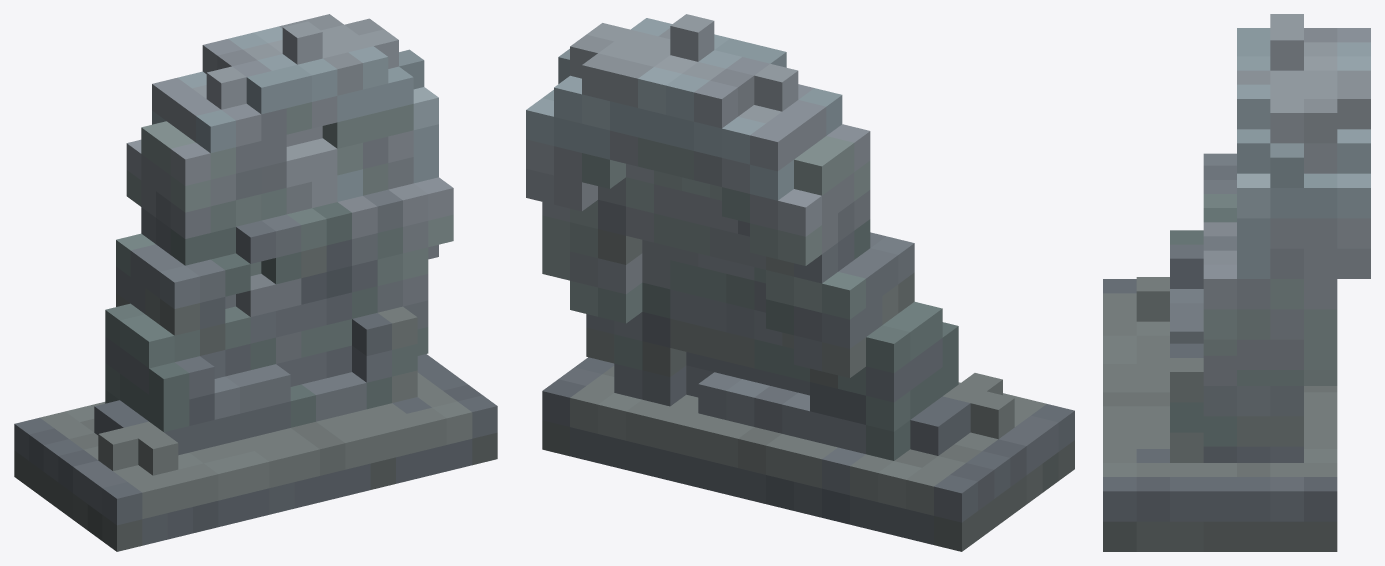
The model's file is grave_A_destroyed.glb.
The picture shows the model from 3 angles, left to right: view 1: azimuth 30°, elevation 25°; view 2: azimuth 150°, elevation 25°; view 3: azimuth 270°, elevation 25°; orthographic projection. The views are drawn at different scales.
Visible parts, largest first — view 1: grave_A_destroyed; view 2: grave_A_destroyed; view 3: grave_A_destroyed.
Boxes of the visible parts, bbox=[...] form: grave_A_destroyed: bbox=[14, 14, 497, 551]; grave_A_destroyed: bbox=[526, 14, 1074, 551]; grave_A_destroyed: bbox=[1103, 14, 1370, 551].
Size of the model in its own units: 2.26 by 2.26 by 1.2.
Materials: 1 (1 with a texture image).
